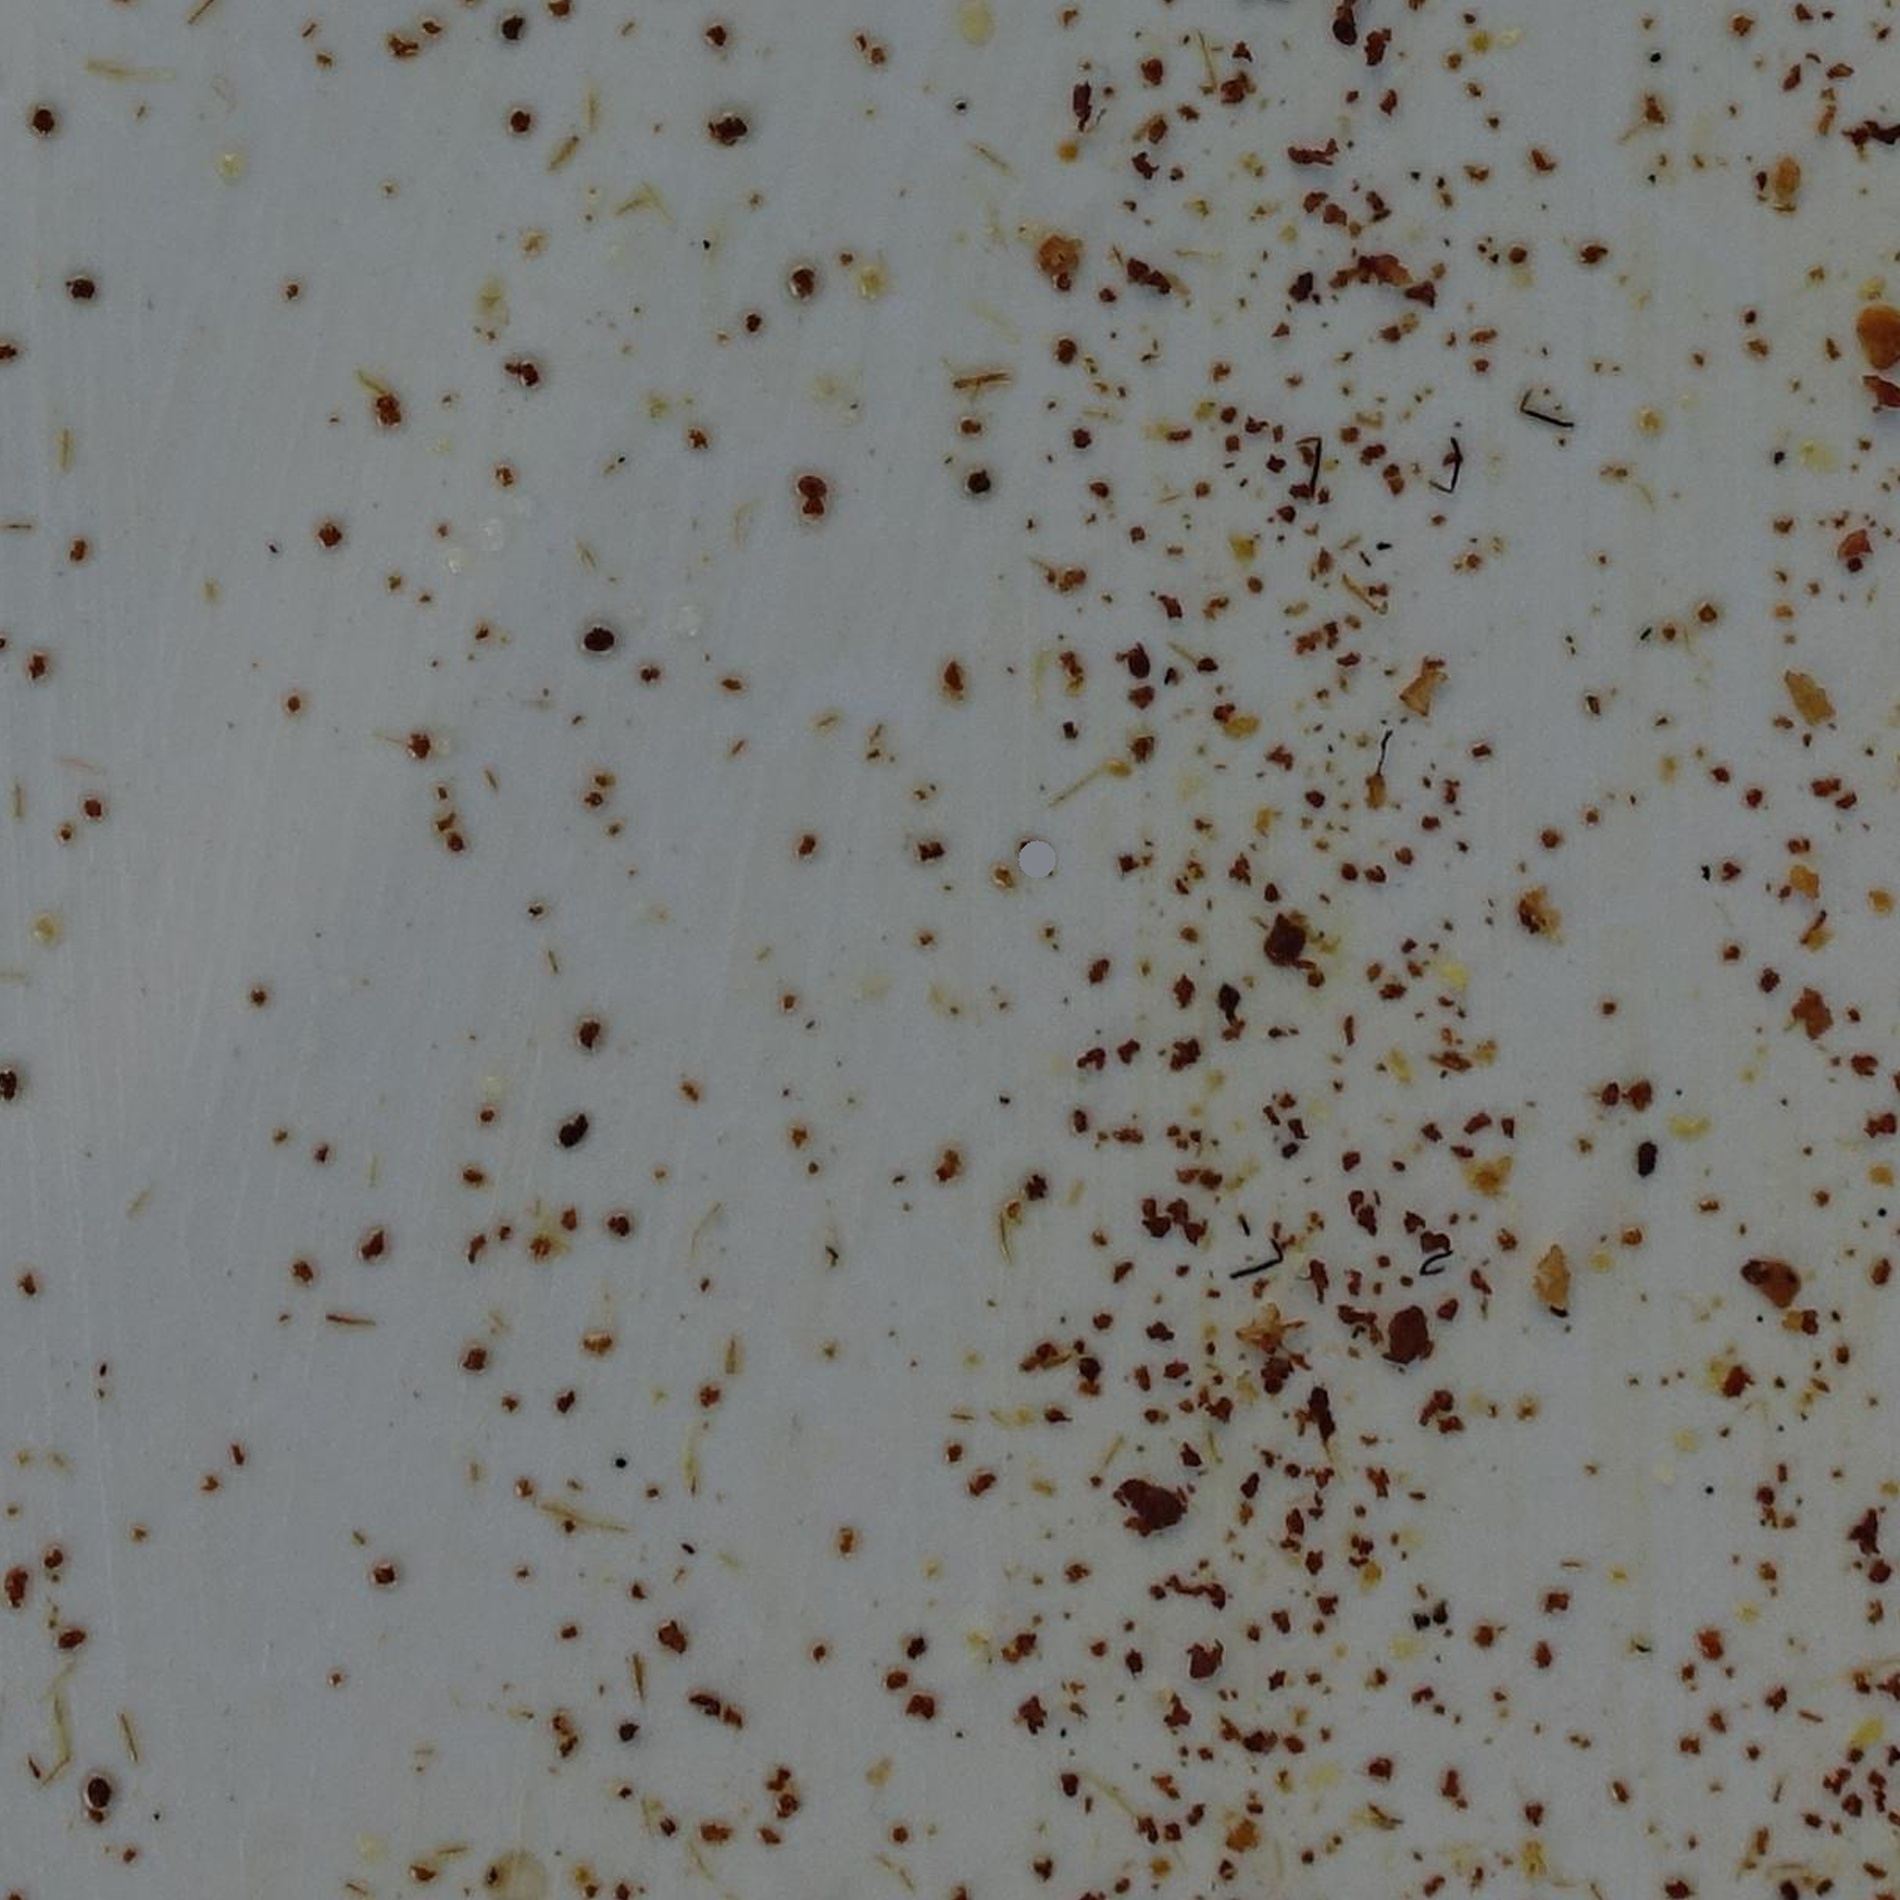Varroa: (560, 1121, 586, 1147), (800, 477, 823, 498), (1129, 652, 1150, 673), (90, 1780, 110, 1801), (1336, 19, 1355, 40), (590, 628, 607, 647)
